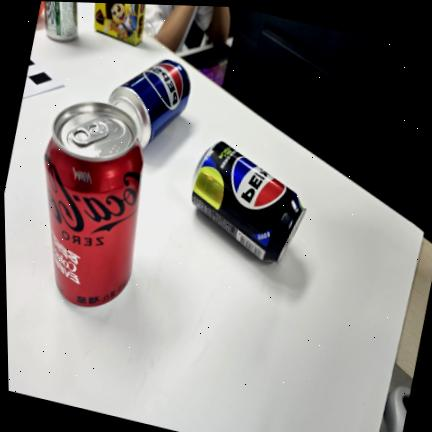can_coke_zero: (45, 102, 143, 307)
can_pepsi: (109, 60, 190, 148)
can_pepsi_zero: (191, 142, 306, 264)
